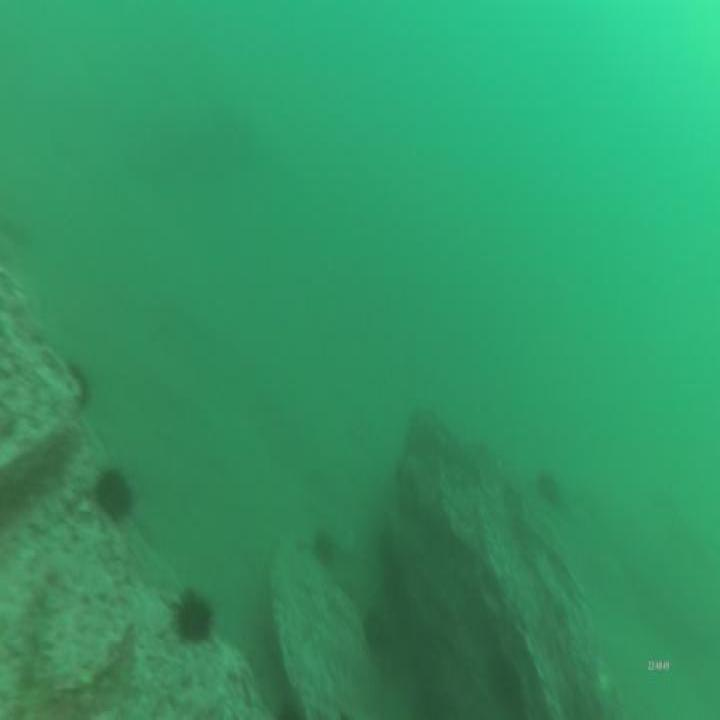echinus: (171, 583, 217, 649), (90, 459, 134, 526), (488, 651, 523, 711), (358, 604, 390, 656), (66, 356, 93, 414), (309, 524, 336, 570), (535, 466, 563, 510)
